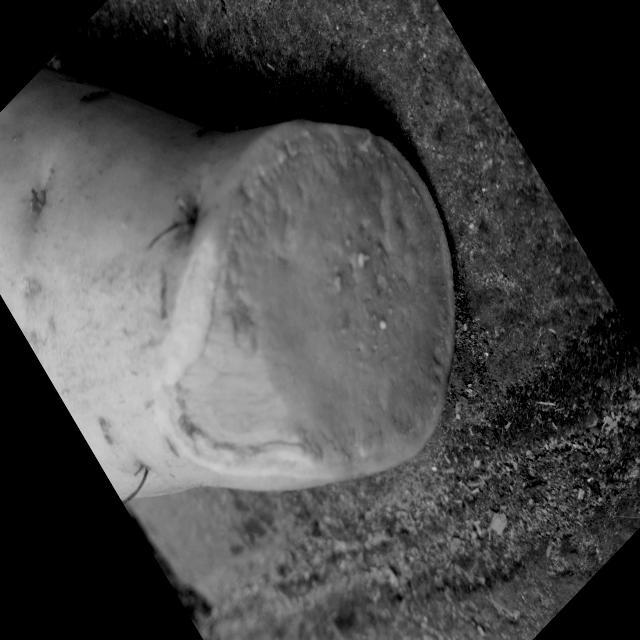Healthy Sweet Potato: (159, 120, 455, 480)
